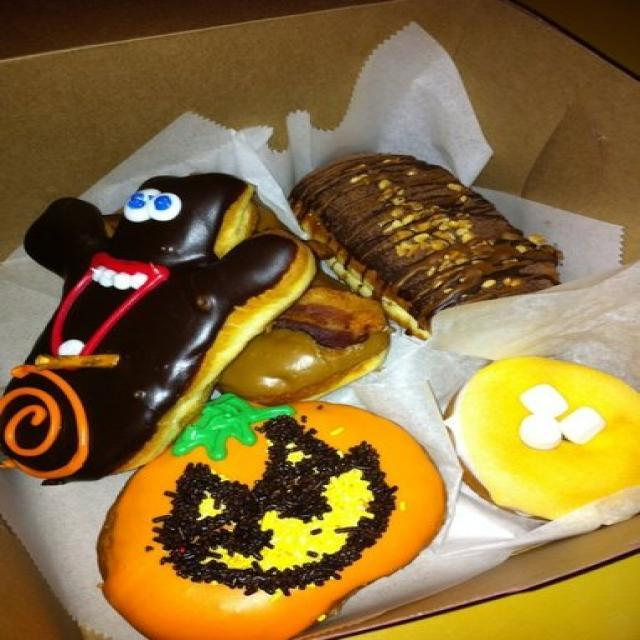Donuts: (22, 162, 640, 640)
